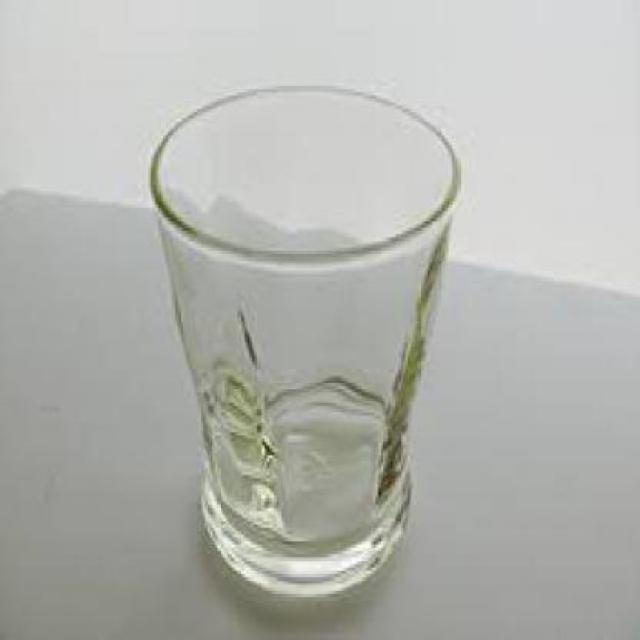kaca: (150, 83, 456, 594)
